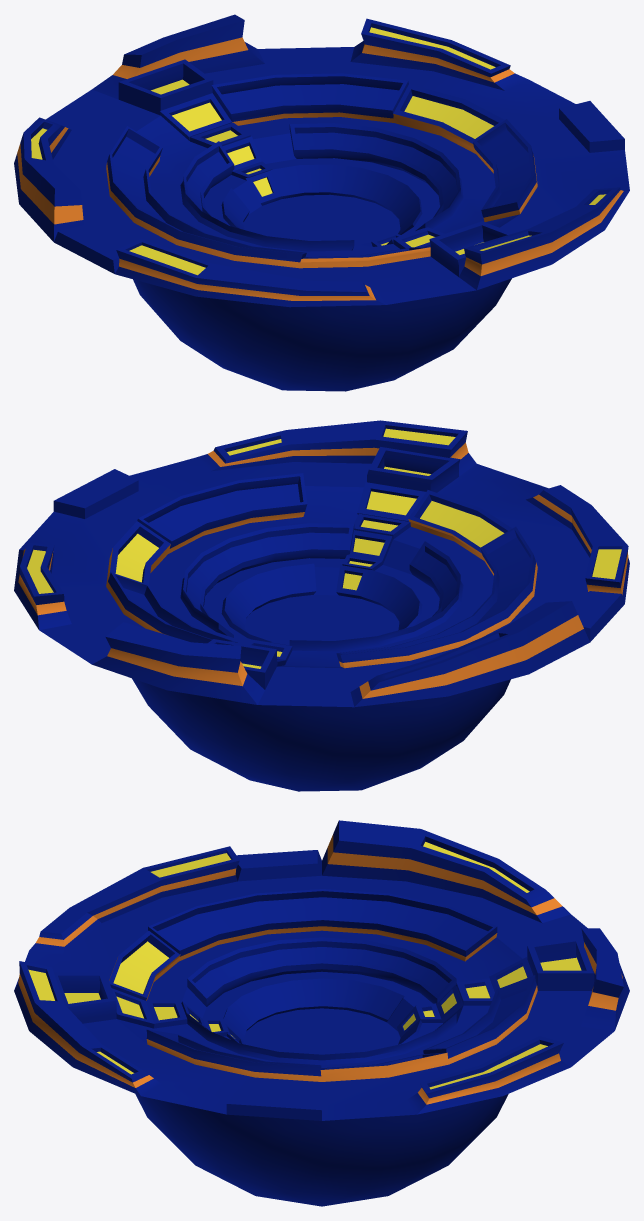
The model's file is Level15B4.fbx.
3 renders of one model, top to bottom at view 1: azimuth 30°, elevation 25°; view 2: azimuth 150°, elevation 25°; view 3: azimuth 270°, elevation 25°, orthographic.
Visible parts, largest first — view 1: Icosphere; view 2: Icosphere; view 3: Icosphere.
Boxes of the visible parts, x1,y1,x2,y2 form: Icosphere: [14, 14, 629, 391]; Icosphere: [14, 420, 629, 791]; Icosphere: [14, 820, 629, 1206].
Size of the model in its own units: 3446 by 1485 by 3446.
